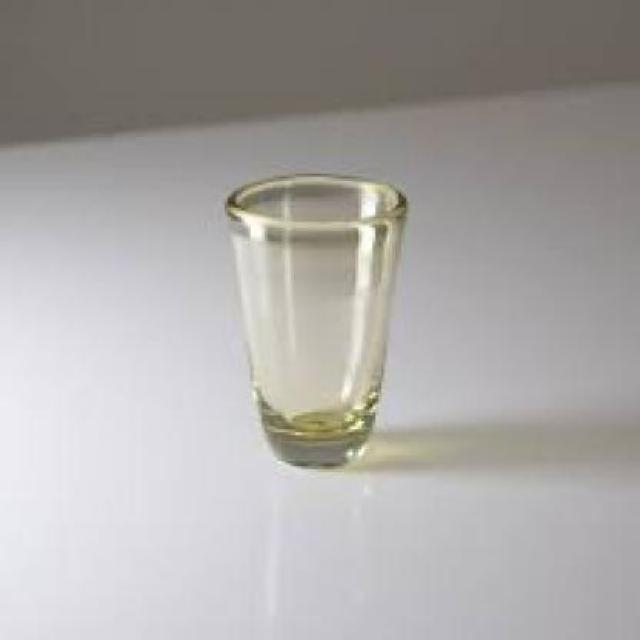kaca: (222, 171, 404, 466)
